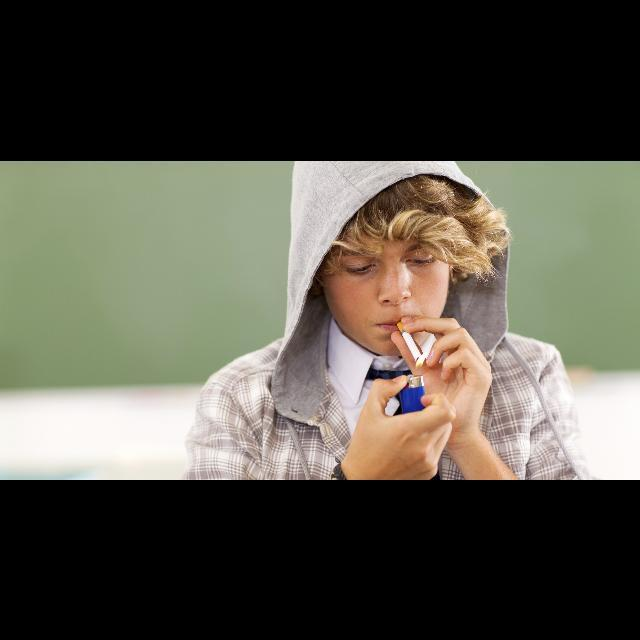rokok: (394, 320, 426, 364)
